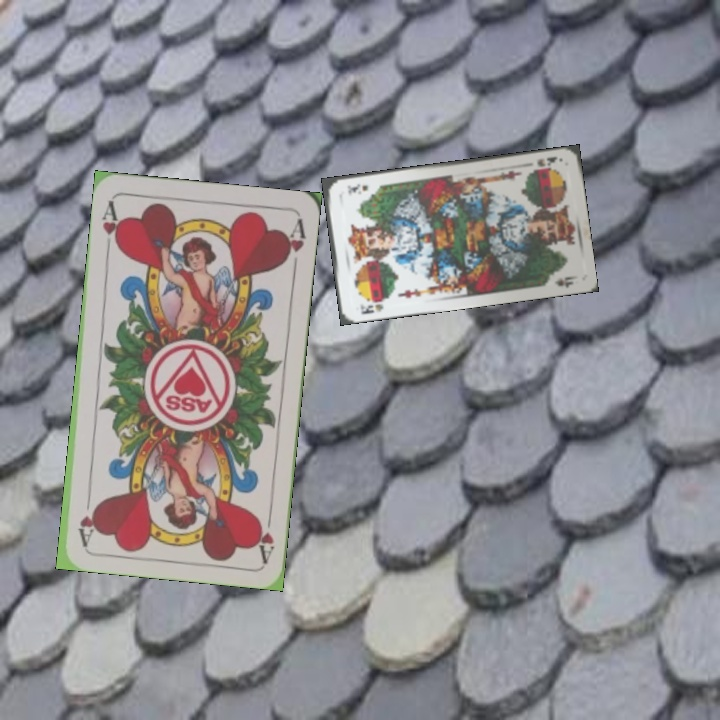HA: (98, 197, 124, 256), (251, 504, 277, 563)
SK: (356, 300, 386, 317), (533, 152, 560, 169)
